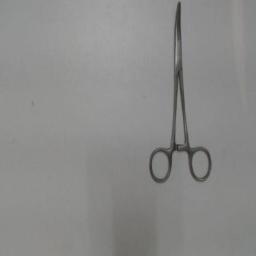Crile Artery Forceps: (145, 0, 215, 186)
